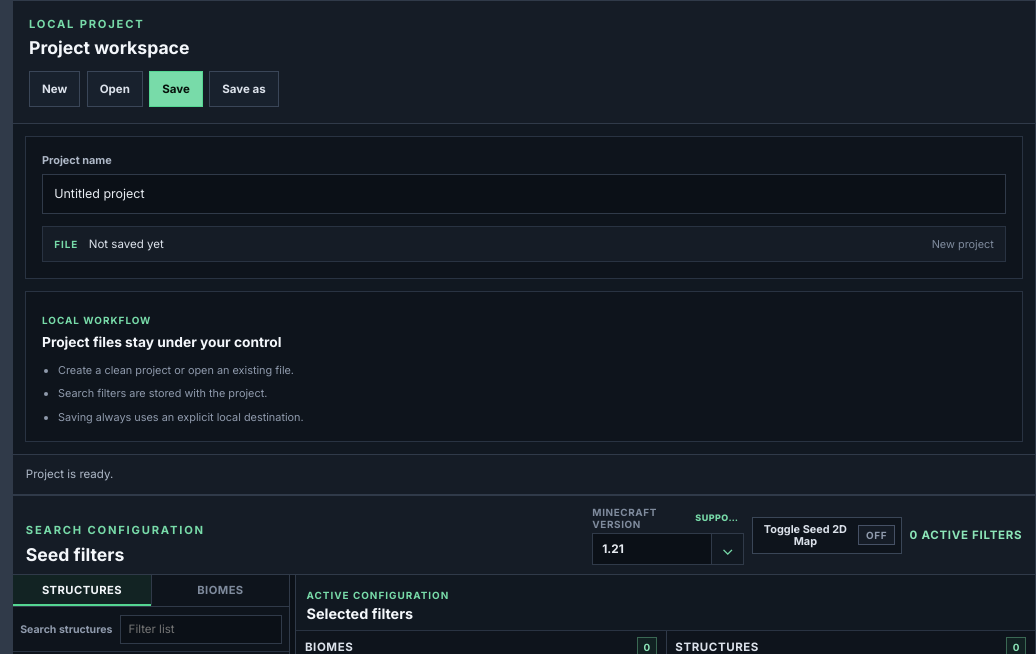
ProjectWorkspace › tracks and saves the selected Minecraft version
Step 1. Click the dropdown labelled "Minecraft version" → (652, 549), box [593,534,711,564]
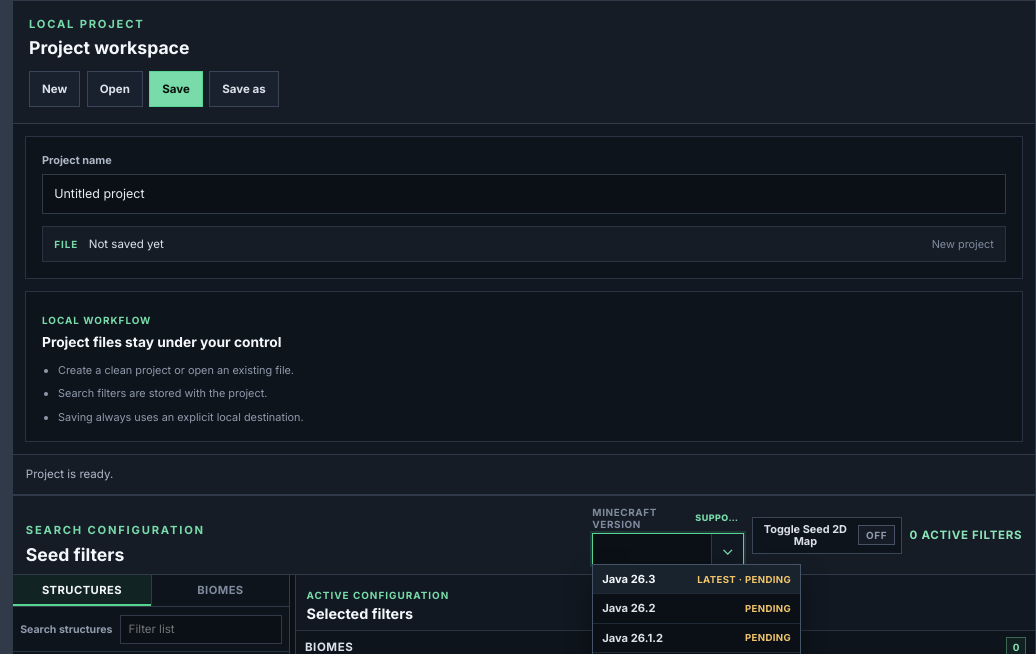
Step 2. Type keys "1.20.6"
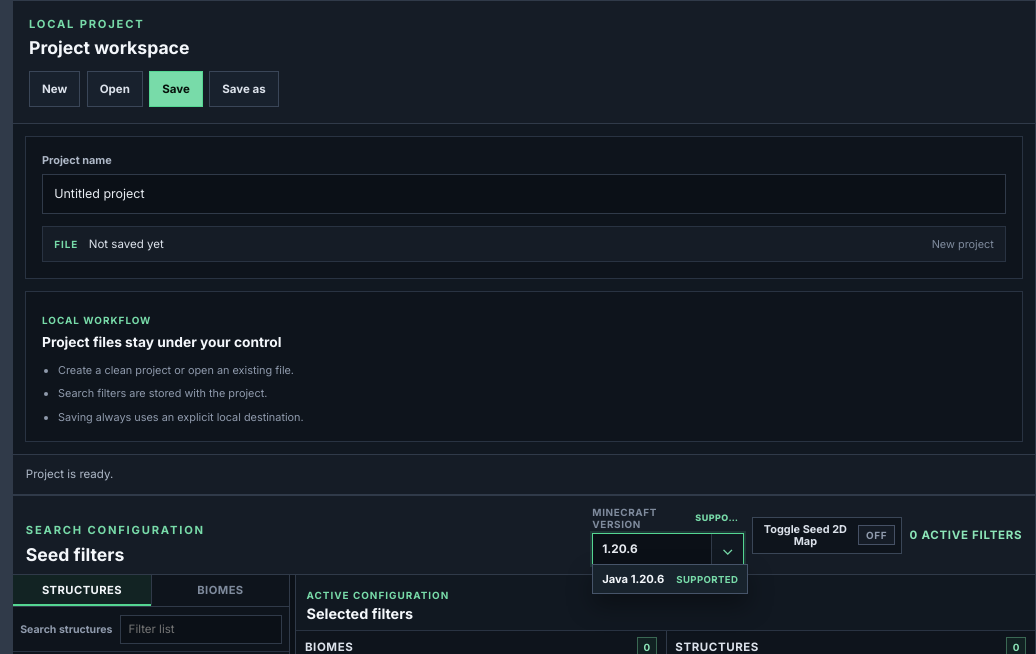
Step 3. Click the option "Java 1.20.6 Supported" → (670, 579), box [593,565,747,593]
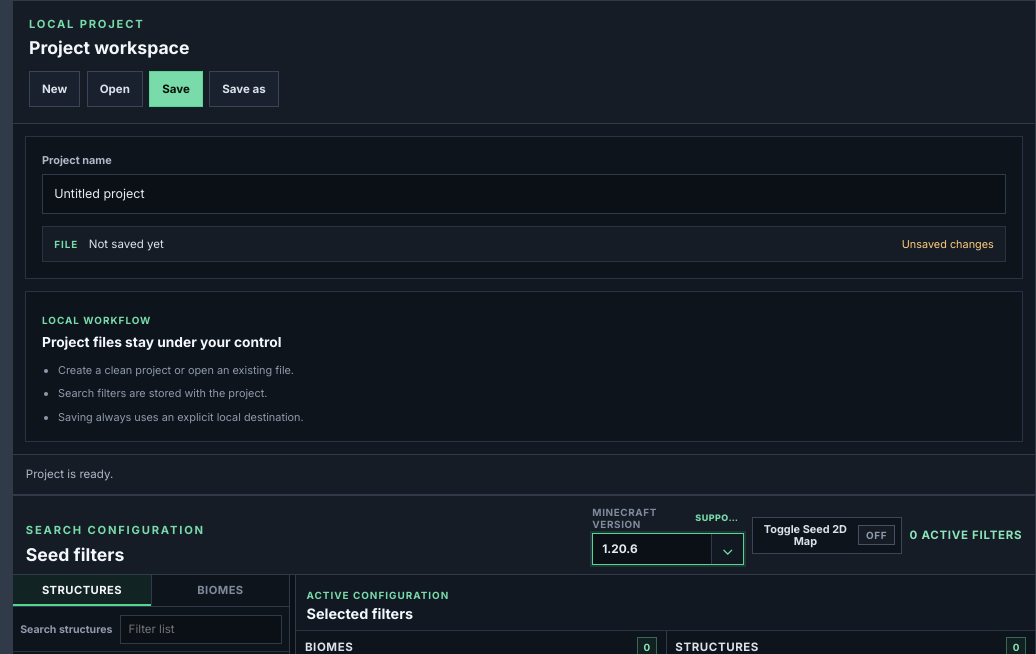
expect the dropdown labelled "Minecraft version" holds "1.20.6": met, box [593,534,711,564]
expect the text "Unsaved changes" is shown: met, box [902,237,994,251]
Step 4. Click the button "Save" → (176, 89), box [149,71,203,107]
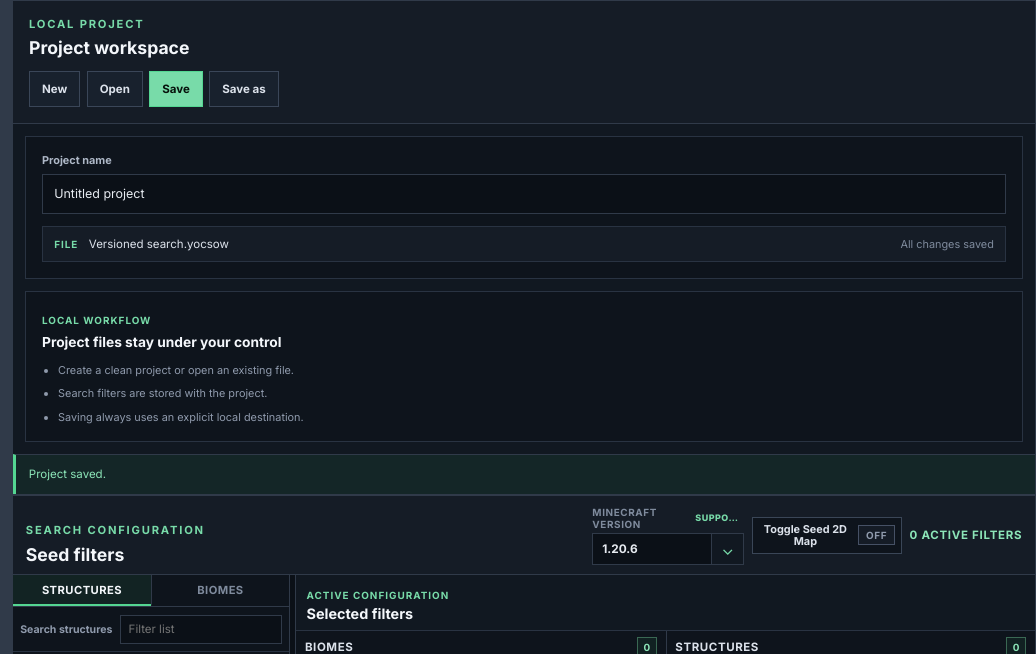
expect the text "All changes saved" is shown: met, box [900,237,994,251]
